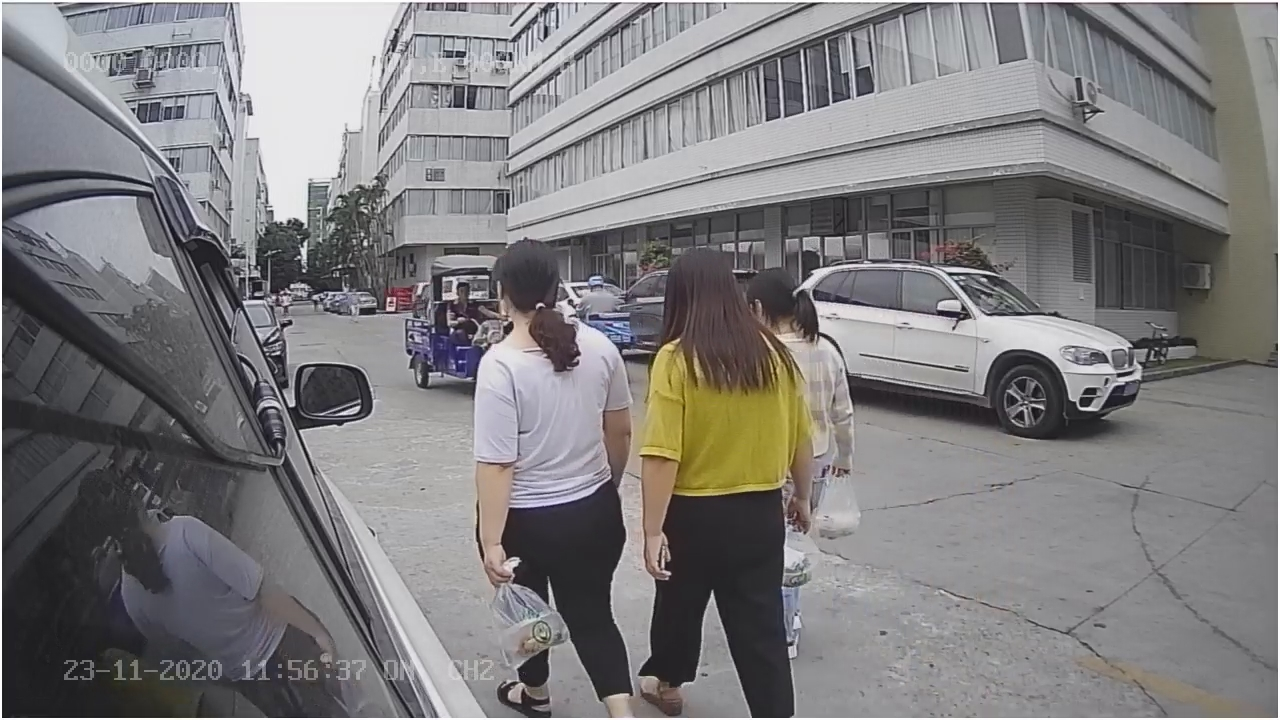person: (467, 234, 640, 720), (631, 247, 802, 718)
